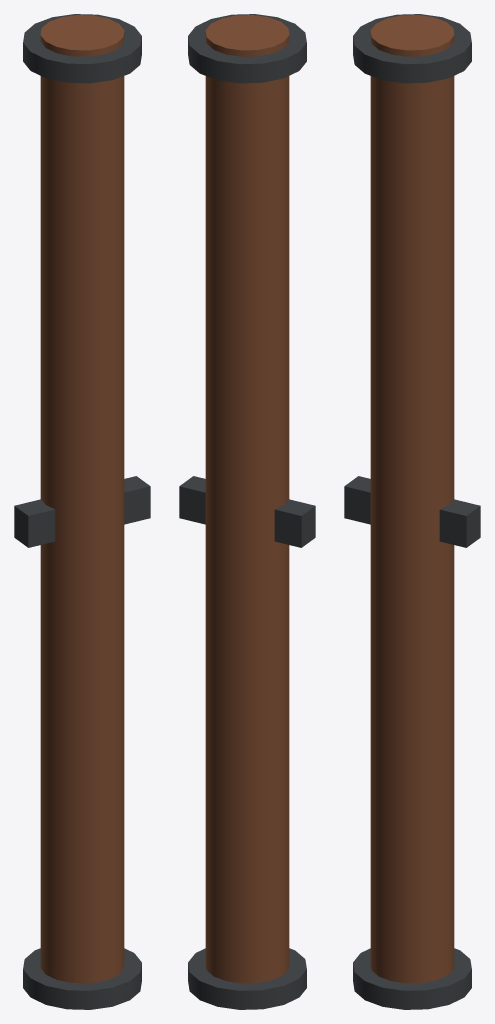
The model's file is SM_Pipe_Vertical.fbx.
3 renders of one model, left to right at view 1: azimuth 30°, elevation 25°; view 2: azimuth 150°, elevation 25°; view 3: azimuth 330°, elevation 25°, orthographic.
Visible parts, largest first — view 1: SM_Pipe_Vertical; view 2: SM_Pipe_Vertical; view 3: SM_Pipe_Vertical.
Part boxes in pixels (bbox=[...]): SM_Pipe_Vertical: bbox=[14, 14, 150, 1009]; SM_Pipe_Vertical: bbox=[179, 14, 315, 1009]; SM_Pipe_Vertical: bbox=[344, 14, 480, 1009].
Size of what is drawn, in the model's own units: 0.4 by 3 by 0.34.
